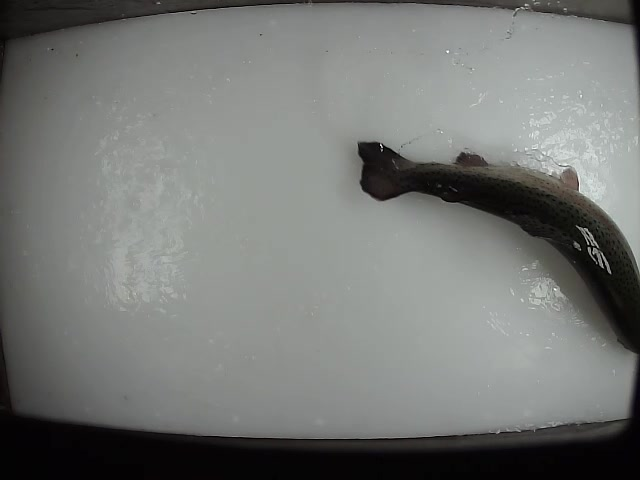fish: (353, 135, 640, 356)
